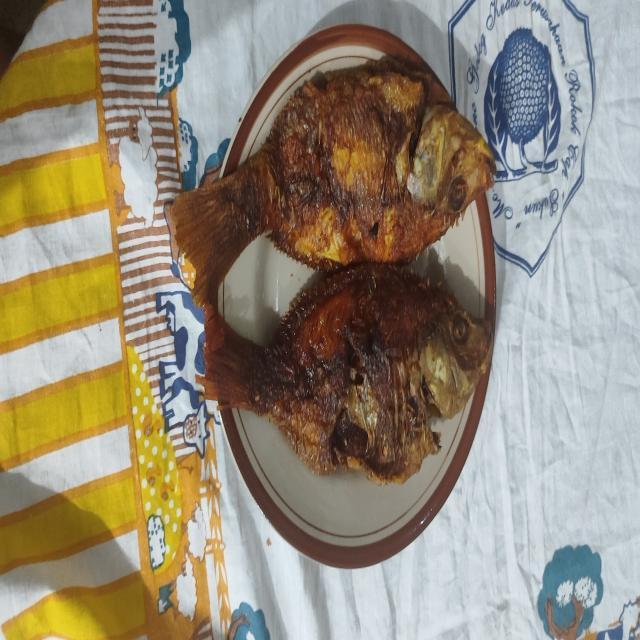ikan_mujair: (171, 56, 496, 306), (200, 262, 494, 483)
